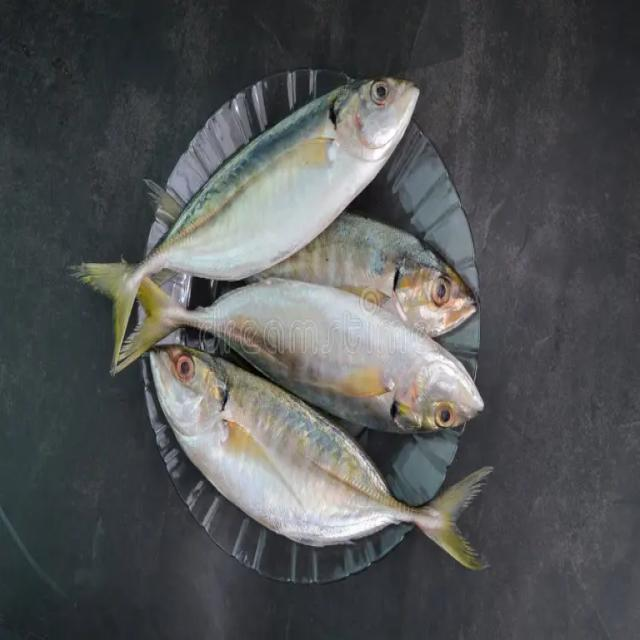Mackerel: (70, 74, 418, 373), (150, 343, 490, 567), (120, 277, 484, 435)
